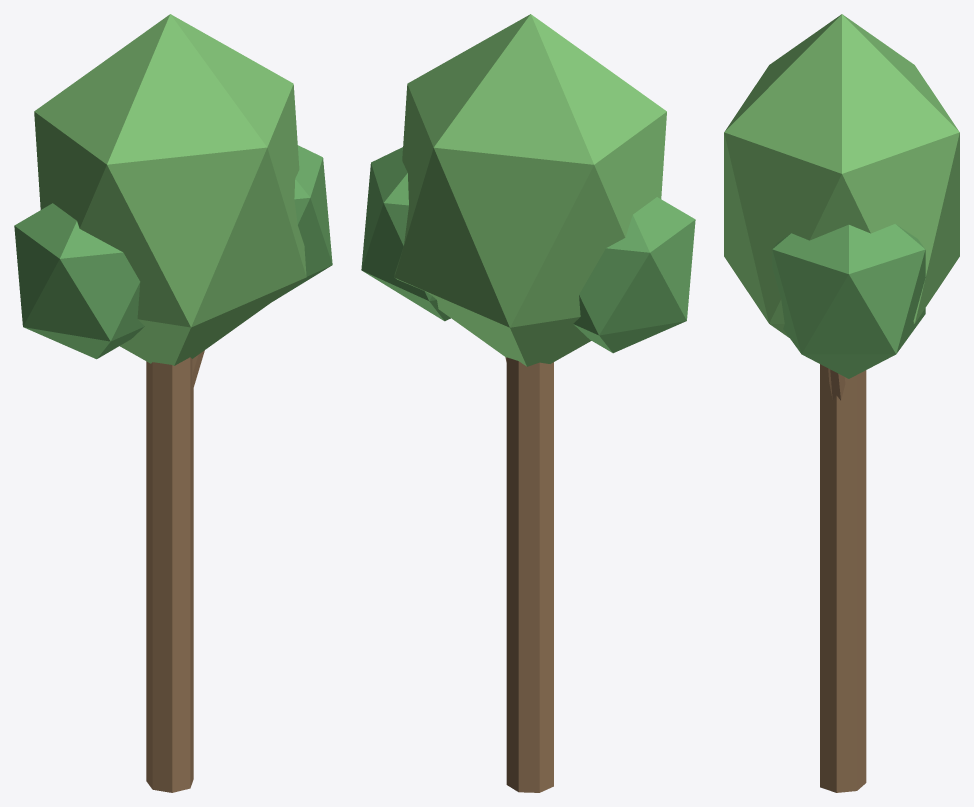
Rendered from leaf_tree_02.glb.
3 renders of one model, left to right at view 1: azimuth 30°, elevation 25°; view 2: azimuth 150°, elevation 25°; view 3: azimuth 270°, elevation 25°, orthographic.
Visible parts, largest first — view 1: leaf_tree_02_canopy_1, leaf_tree_02_trunk, leaf_tree_02_canopy_3, leaf_tree_02_canopy_2; view 2: leaf_tree_02_canopy_1, leaf_tree_02_trunk, leaf_tree_02_canopy_3, leaf_tree_02_canopy_2; view 3: leaf_tree_02_canopy_1, leaf_tree_02_trunk, leaf_tree_02_canopy_2.
Part boxes in pixels (x1=…): leaf_tree_02_canopy_1: x1=34, y1=14, x2=306, y2=365; leaf_tree_02_trunk: x1=146, y1=357, x2=193, y2=792; leaf_tree_02_canopy_3: x1=14, y1=203, x2=144, y2=359; leaf_tree_02_canopy_2: x1=273, y1=145, x2=332, y2=301; leaf_tree_02_canopy_1: x1=394, y1=14, x2=666, y2=366; leaf_tree_02_trunk: x1=506, y1=357, x2=553, y2=792; leaf_tree_02_canopy_3: x1=573, y1=197, x2=695, y2=353; leaf_tree_02_canopy_2: x1=361, y1=147, x2=450, y2=321; leaf_tree_02_canopy_1: x1=724, y1=14, x2=959, y2=337; leaf_tree_02_trunk: x1=820, y1=364, x2=866, y2=792; leaf_tree_02_canopy_2: x1=772, y1=224, x2=925, y2=378.
Size of the model in its own units: 2.05 by 4.9 by 1.36.
